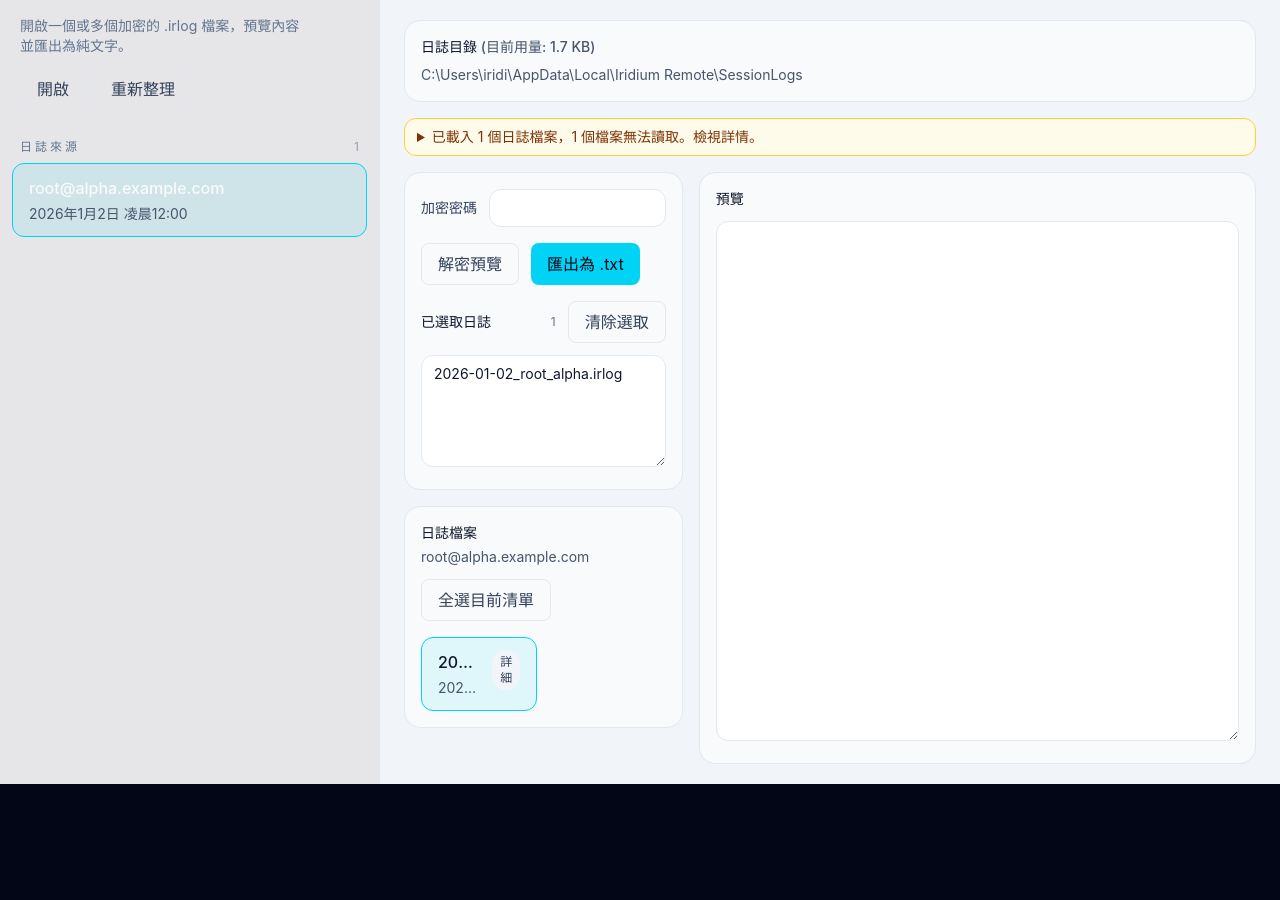
SessionLogsWorkspace › shows readable logs and warning details in zh-TW
The image size is (1280, 900).
Expected: the text "2026-01-02_root_alpha.irlog" is shown, [438,650,480,674]
Click the heading "已載入 1 個日誌檔案，1 個檔案無法讀取。檢視詳情。" at (597, 136), box [432,128,763,145]
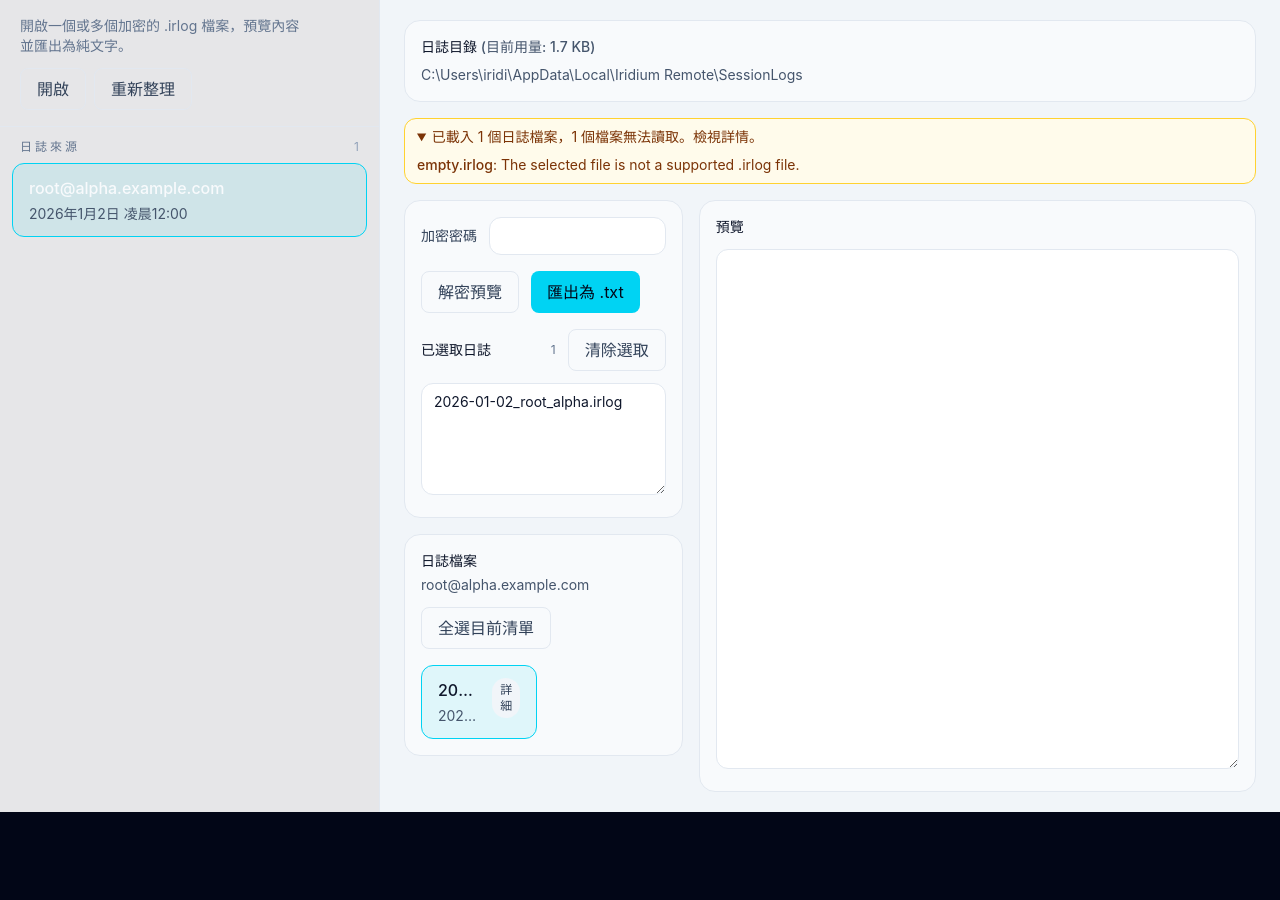
Now the text "empty.irlog" is shown, box [417,156,493,173]
Now the list item "The selected file is not a supported .irlog file." is shown, box [501,156,800,173]
